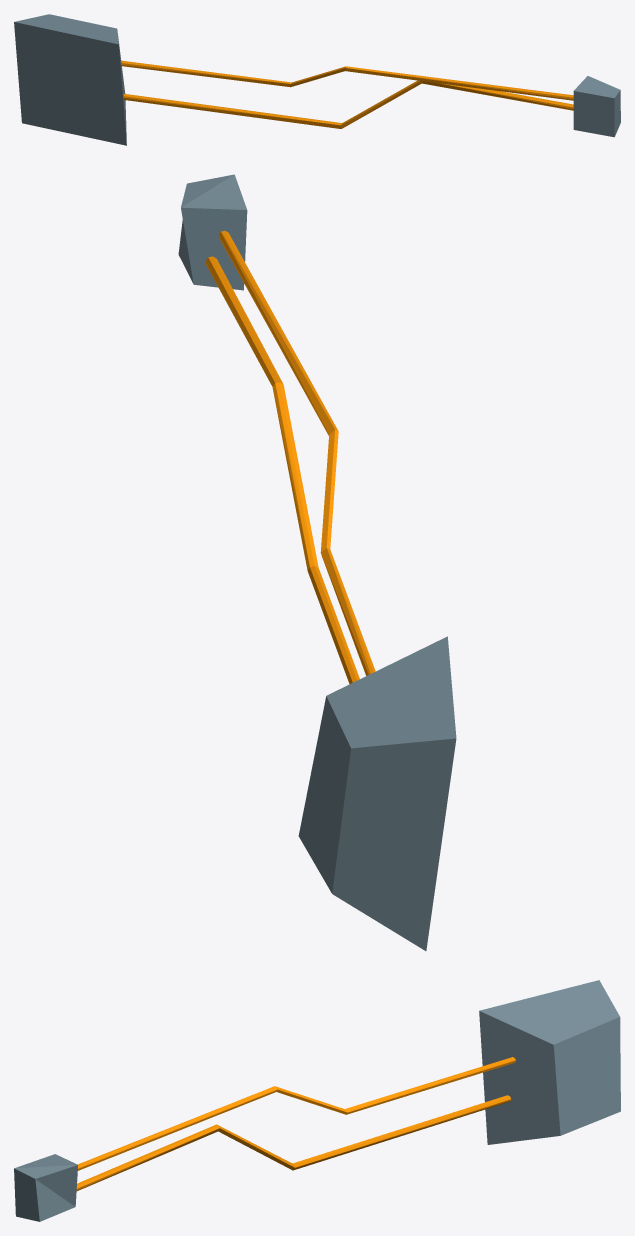
3 views of the same model, one above another, from view 1: azimuth 30°, elevation 25°; view 2: azimuth 150°, elevation 25°; view 3: azimuth 270°, elevation 25° (orthographic). The views are drawn at different scales.
Visible parts, largest first — view 1: mesh_1699674086, group_1318873762, group_289018487, mesh_188038389; view 2: mesh_1699674086, mesh_188038389, group_1318873762, group_289018487; view 3: mesh_1699674086, mesh_188038389, group_1318873762, group_289018487.
Boxes of the visible parts, x1,y1,x2,y2 form: mesh_1699674086: (14, 14, 126, 145); group_1318873762: (123, 80, 573, 128); group_289018487: (121, 60, 573, 100); mesh_188038389: (573, 76, 620, 137); mesh_1699674086: (298, 636, 456, 950); mesh_188038389: (178, 174, 247, 290); group_1318873762: (205, 256, 359, 684); group_289018487: (218, 230, 375, 675); mesh_1699674086: (479, 980, 620, 1144); mesh_188038389: (14, 1154, 77, 1221); group_1318873762: (76, 1095, 511, 1190); group_289018487: (78, 1057, 515, 1170).
Size of the model in its own units: 14.09 by 4.54 by 16.61.
